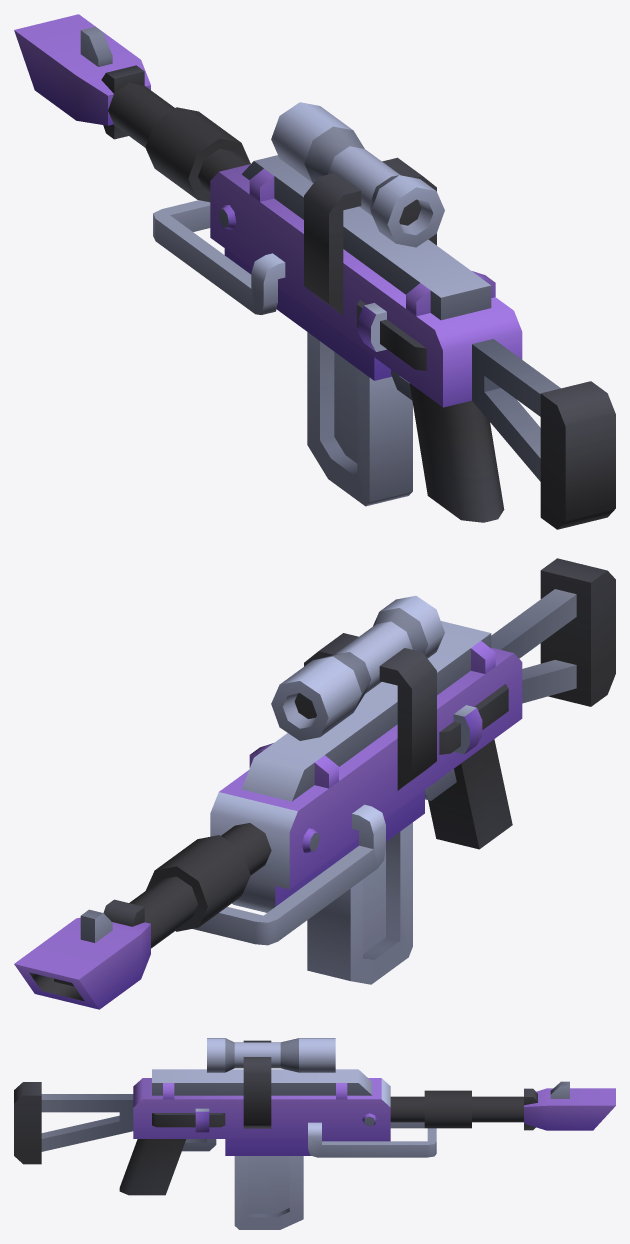
Rendered from blaster-f.glb.
3 views of the same model, one above another, from view 1: azimuth 30°, elevation 25°; view 2: azimuth 150°, elevation 25°; view 3: azimuth 270°, elevation 25° (orthographic). The views are drawn at different scales.
Parts seen in each view (by area): view 1: blaster-f, scope, magazine; view 2: blaster-f, scope, magazine; view 3: blaster-f, scope, magazine.
Boxes of the visible parts, left/top/right/bottom form: blaster-f: left=14, top=14, right=615, bottom=529; scope: left=271, top=102, right=444, bottom=315; magazine: left=307, top=332, right=412, bottom=506; blaster-f: left=14, top=558, right=615, bottom=1009; scope: left=271, top=595, right=444, bottom=790; magazine: left=307, top=822, right=412, bottom=984; blaster-f: left=14, top=1069, right=615, bottom=1195; scope: left=207, top=1038, right=335, bottom=1128; magazine: left=234, top=1156, right=303, bottom=1229.
Size of the model in its own units: 0.17 by 0.445 by 1.31.
1 material, 1 textured.
